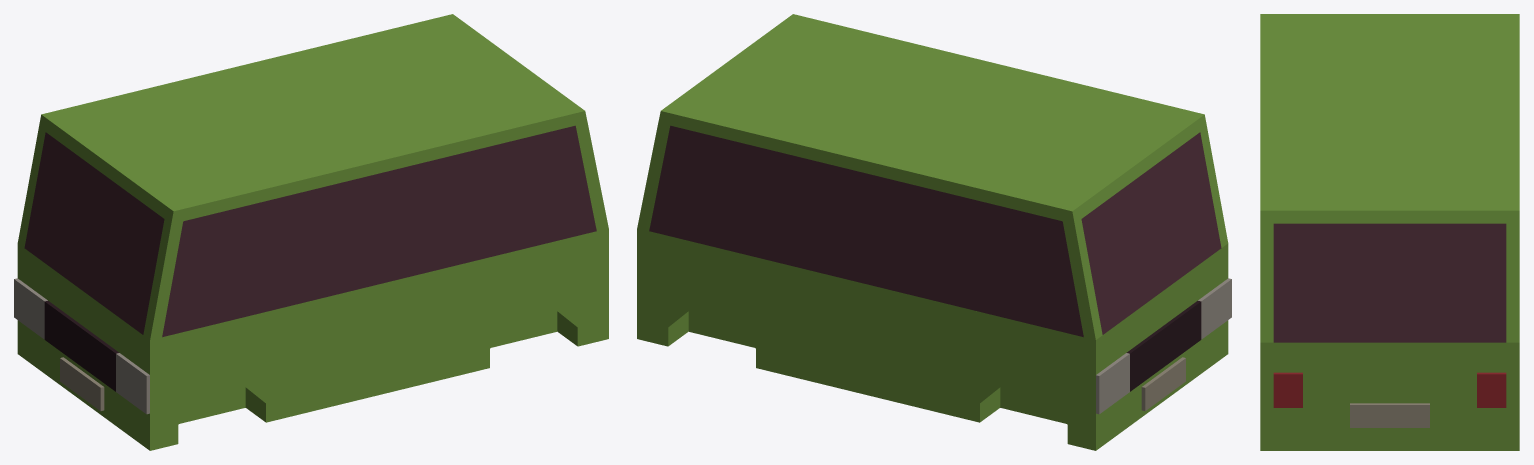
The model's file is MiniVan_Green.fbx.
3 renders of one model, left to right at view 1: azimuth 30°, elevation 25°; view 2: azimuth 150°, elevation 25°; view 3: azimuth 270°, elevation 25°, orthographic. The views are drawn at different scales.
Visible parts, largest first — view 1: MiniVan_Green, MiniVan_Lights; view 2: MiniVan_Green, MiniVan_Lights; view 3: MiniVan_Green, MiniVan_Lights.
Part boxes in pixels (x1,y1,x2,y2): MiniVan_Green: (17, 14, 608, 450); MiniVan_Lights: (14, 278, 149, 414); MiniVan_Green: (637, 14, 1228, 450); MiniVan_Lights: (1096, 278, 1231, 414); MiniVan_Green: (1260, 14, 1519, 450); MiniVan_Lights: (1273, 372, 1506, 407).
Size of the model in its own units: 3.96 by 1.9 by 1.95.
